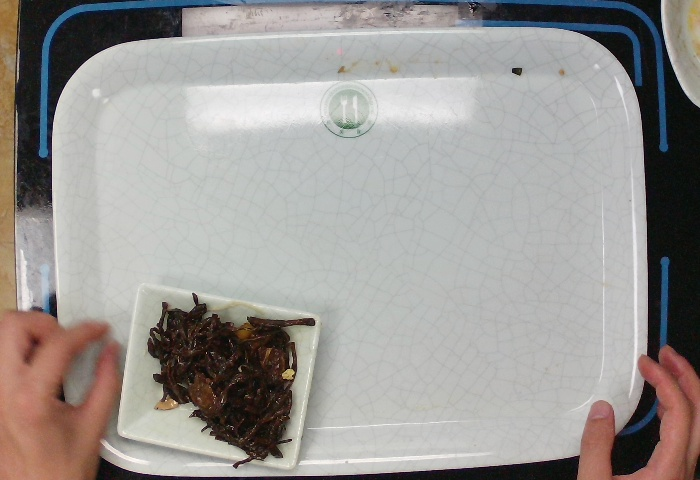WCQzf-Ru_Ci_Si_Fang_Die: (110, 275, 327, 471)
